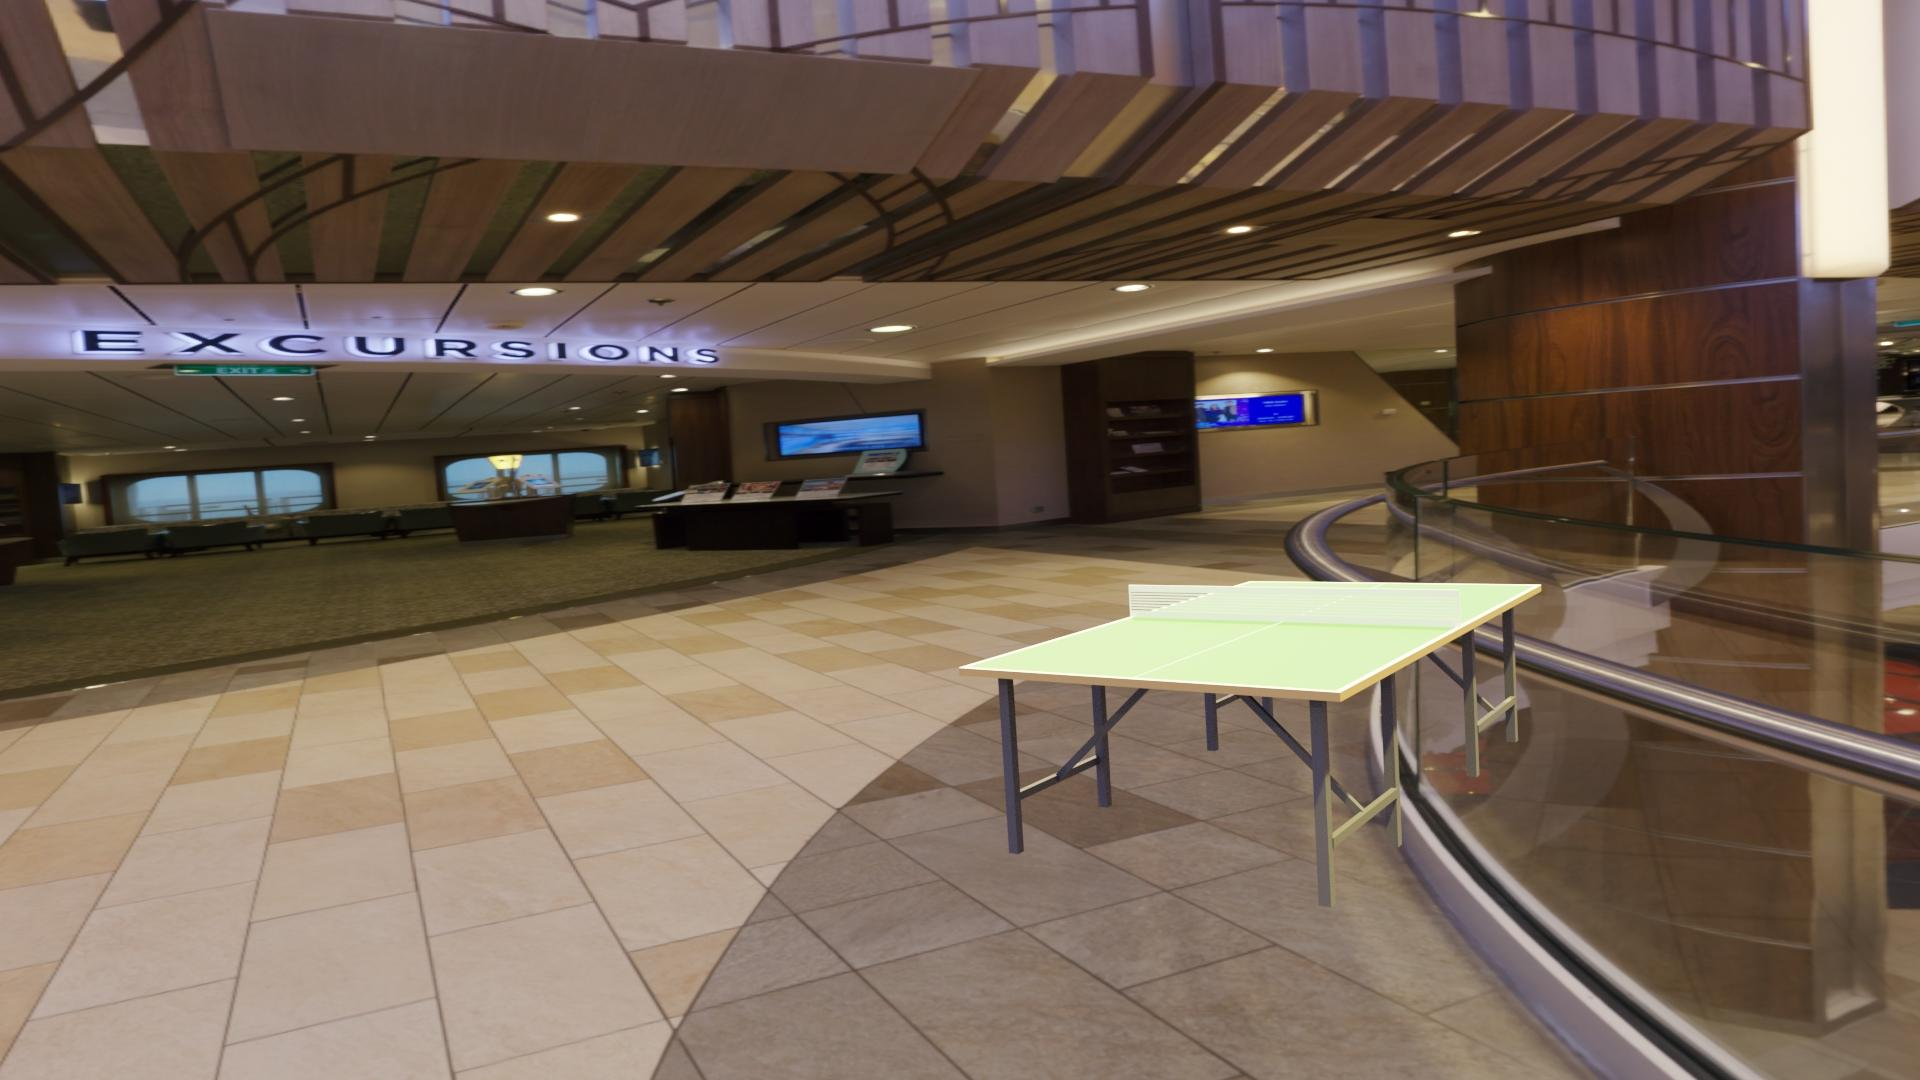table: (967, 582, 1536, 691)
